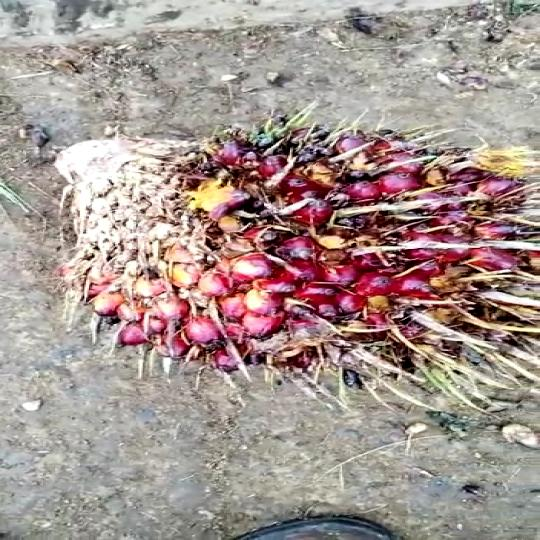masak: (55, 105, 540, 389)
